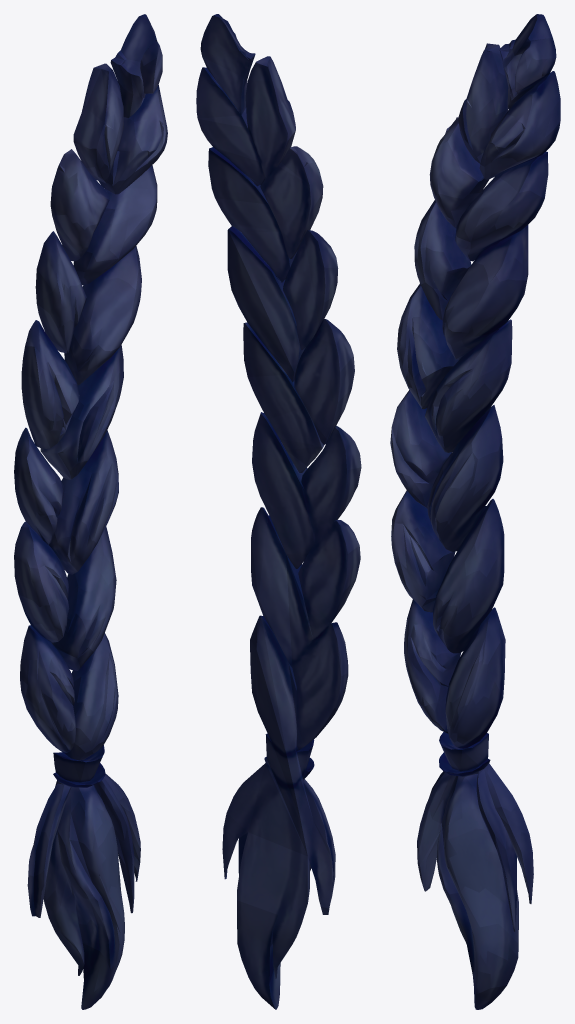
The model's file is nerith_f-meche-2-longue-tresse.glb.
3 renders of one model, left to right at view 1: azimuth 30°, elevation 25°; view 2: azimuth 150°, elevation 25°; view 3: azimuth 330°, elevation 25°, orthographic. The views are drawn at different scales.
Parts seen in each view (by area): view 1: geometry_0; view 2: geometry_0; view 3: geometry_0.
Part boxes in pixels (x1,y1,x2,y2): geometry_0: (14, 14, 167, 1009); geometry_0: (196, 14, 361, 1009); geometry_0: (390, 14, 560, 1009).
Size of the model in its own units: 0.3018 by 1.9 by 0.1117.
1 material, 1 textured.
